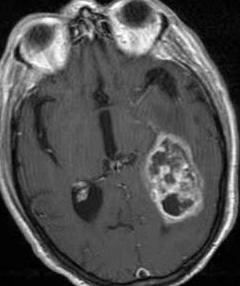Tumour-Meningioma: (119, 131, 212, 229)
Tumour-Pituitary: (162, 1, 240, 136), (180, 136, 240, 286), (1, 195, 91, 286), (1, 1, 72, 58)
